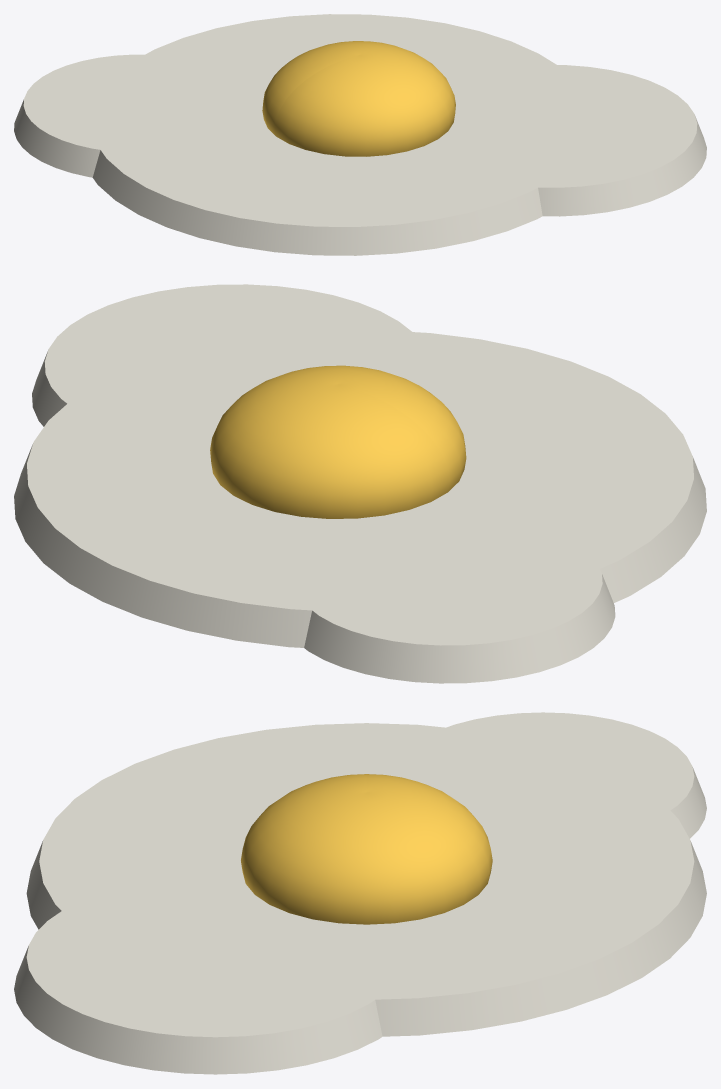
File: soraine_egg_repaired.glb
The picture shows the model from 3 angles, top to bottom: view 1: azimuth 30°, elevation 25°; view 2: azimuth 150°, elevation 25°; view 3: azimuth 270°, elevation 25°; orthographic projection. The views are drawn at different scales.
Parts seen in each view (by area): view 1: egg; view 2: egg; view 3: egg.
Part boxes in pixels (x1,y1,x2,y2): egg: [14, 14, 706, 255]; egg: [14, 284, 706, 683]; egg: [14, 712, 706, 1074].
Size of the model in its own units: 0.315 by 0.06 by 0.275.
